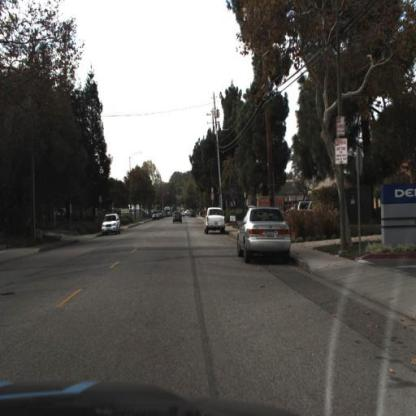car: (237, 206, 296, 262), (237, 204, 292, 264), (203, 206, 227, 238), (204, 205, 228, 234), (101, 212, 122, 239), (100, 214, 121, 235), (172, 209, 186, 228)
